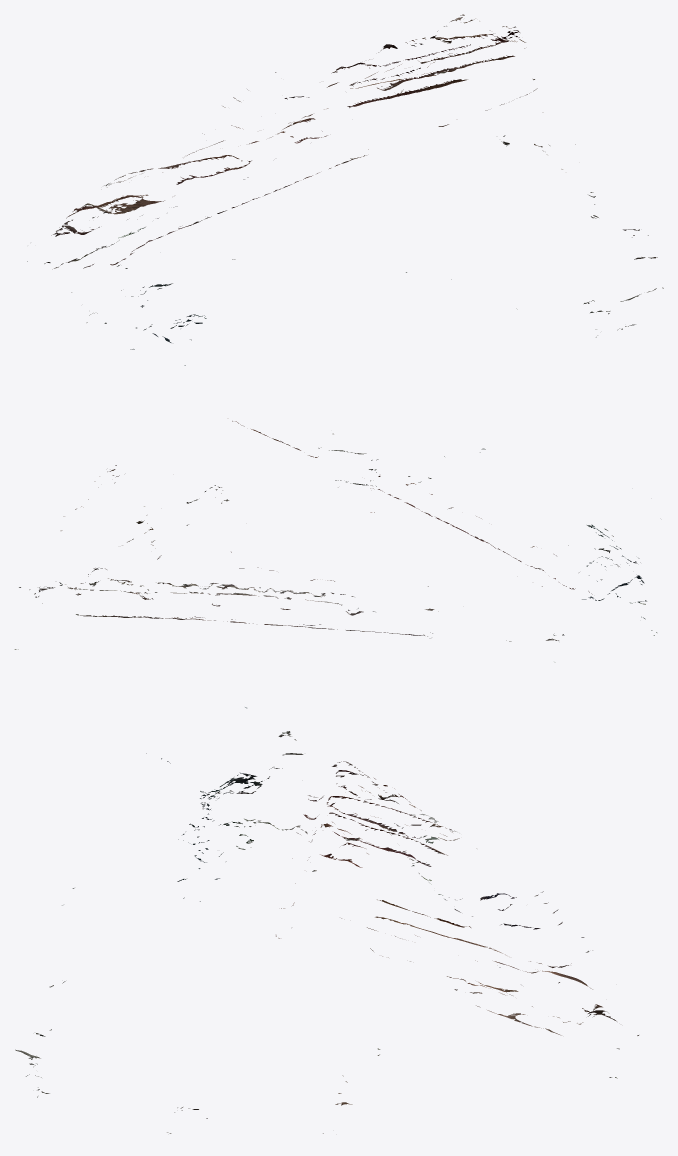
Rendered from esc_baja_techo_09.glb.
3 views of the same model, one above another, from view 1: azimuth 30°, elevation 25°; view 2: azimuth 150°, elevation 25°; view 3: azimuth 270°, elevation 25° (orthographic). The views are drawn at different scales.
Visible parts, largest first — view 1: techo_Acceso_9_GLTF, techo_Acceso_9_GLTF_1; view 2: techo_Acceso_9_GLTF, techo_Acceso_9_GLTF_1; view 3: techo_Acceso_9_GLTF, techo_Acceso_9_GLTF_1.
Part boxes in pixels (box(x1,y1,x2,y2)): techo_Acceso_9_GLTF: box(44, 20, 657, 349); techo_Acceso_9_GLTF_1: box(27, 14, 663, 365); techo_Acceso_9_GLTF: box(14, 421, 646, 649); techo_Acceso_9_GLTF_1: box(29, 433, 656, 662); techo_Acceso_9_GLTF: box(26, 707, 638, 1133); techo_Acceso_9_GLTF_1: box(15, 753, 598, 1133).
Size of the model in its own units: 6.55 by 1.77 by 6.17.
2 materials, 2 textured.
